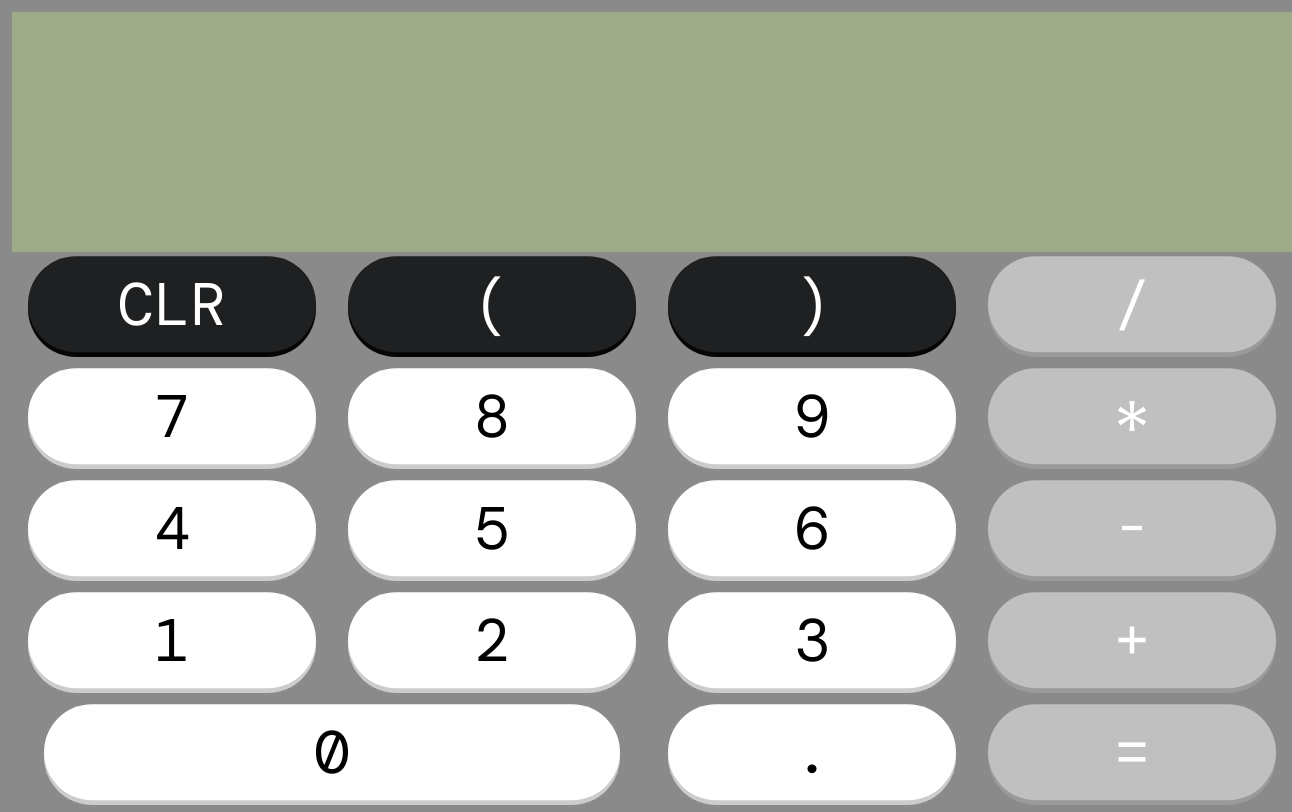
Scenario: Buttons produce output
The width and height of the screenshot is (1292, 812).
Click the button "1" at {"x": 172, "y": 645}, box [28,597,316,693]
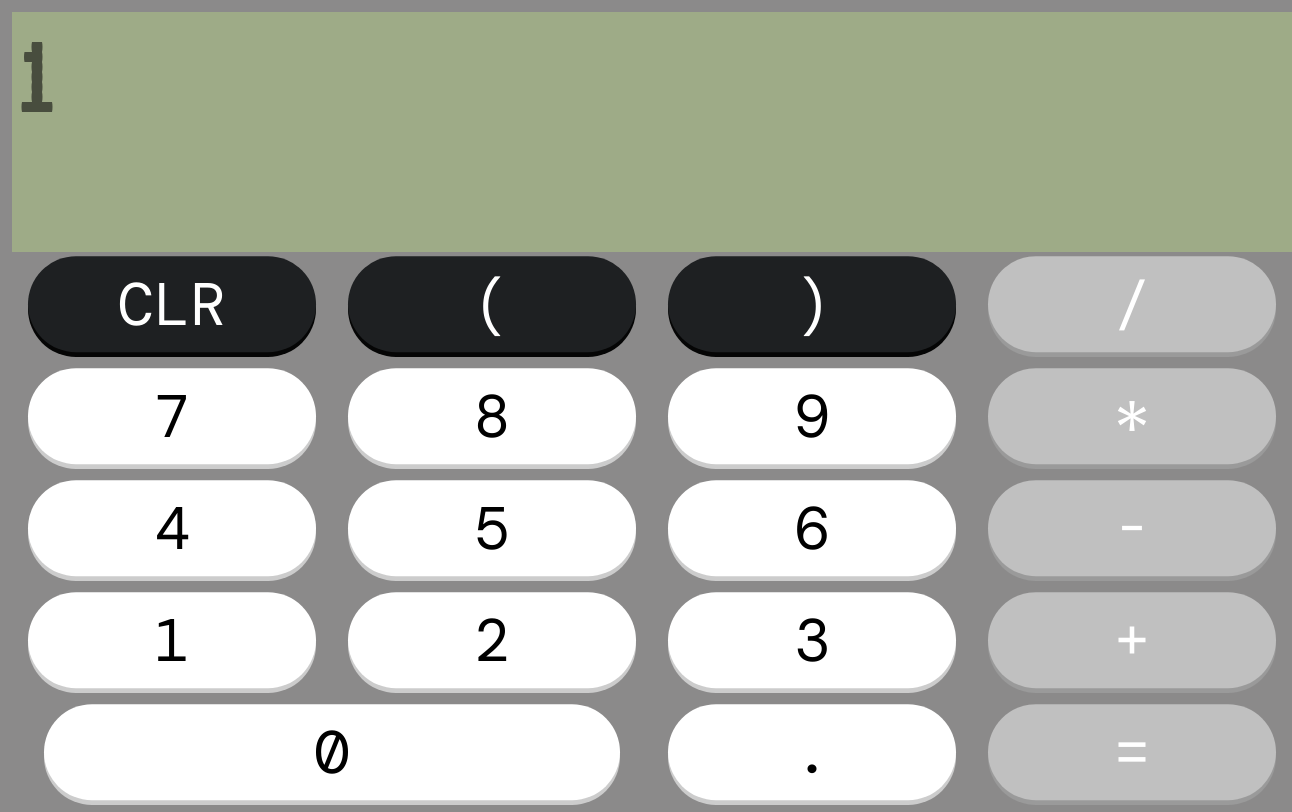
Expected: the 1st element showing "1" is shown, [12,12,1291,252]
